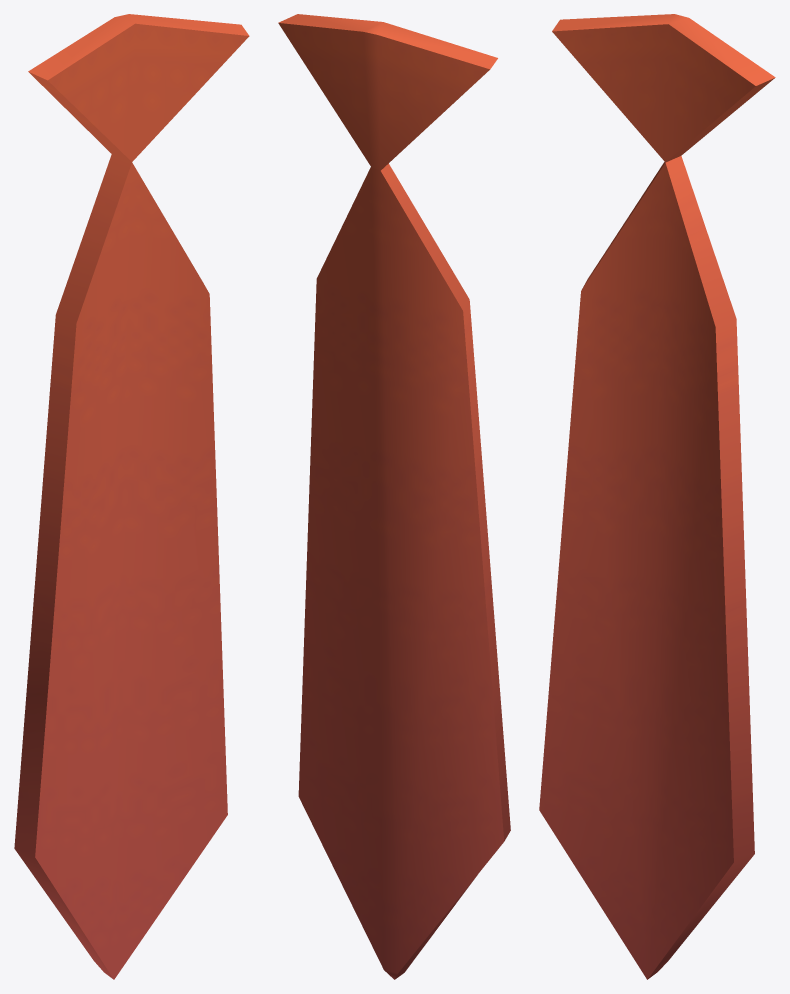
The model's file is Attach_Tie.fbx.
3 renders of one model, left to right at view 1: azimuth 30°, elevation 25°; view 2: azimuth 150°, elevation 25°; view 3: azimuth 330°, elevation 25°, orthographic.
Visible parts, largest first — view 1: Attach_Tie; view 2: Attach_Tie; view 3: Attach_Tie.
Boxes of the visible parts, bbox=[...] form: Attach_Tie: bbox=[14, 14, 249, 979]; Attach_Tie: bbox=[278, 14, 510, 979]; Attach_Tie: bbox=[539, 14, 775, 979].
Size of the model in its own units: 0.1837 by 0.0382 by 0.7346.
